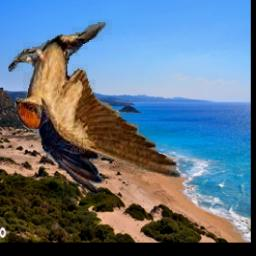Swallow: (8, 10, 184, 195)
